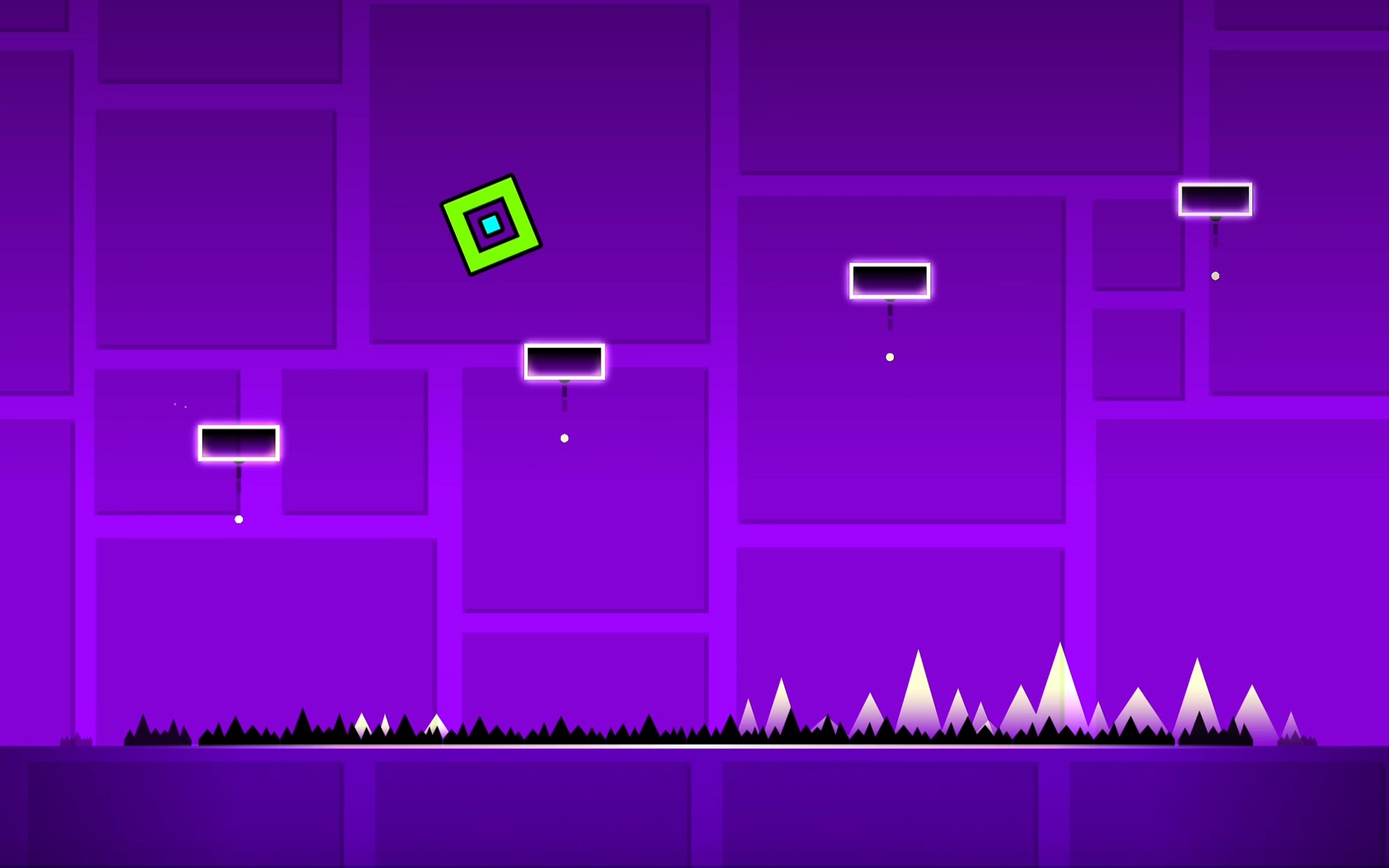Block3: (849, 262, 931, 319), (197, 424, 279, 463), (523, 344, 605, 382), (1178, 183, 1252, 216)
Player: (441, 175, 542, 275)
Spike3: (40, 700, 1334, 749)
